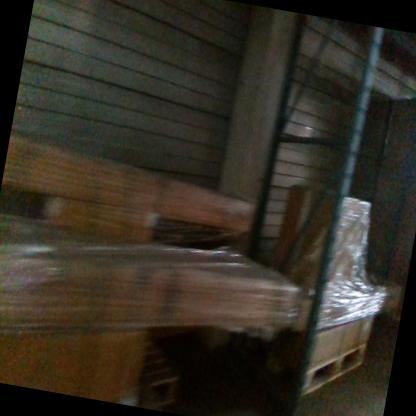pallet: (297, 329, 368, 404)
